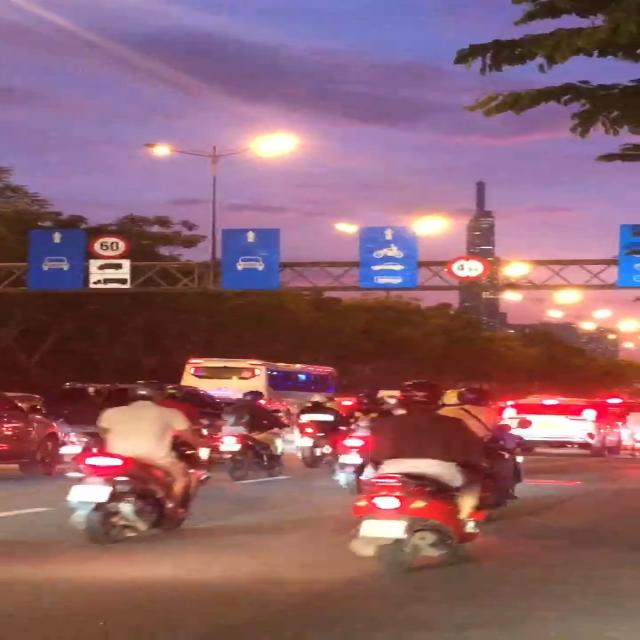Bien bao han che chieu cao: (444, 251, 492, 286)
Bien bao toc do toi da cho phep: (84, 228, 137, 264)
